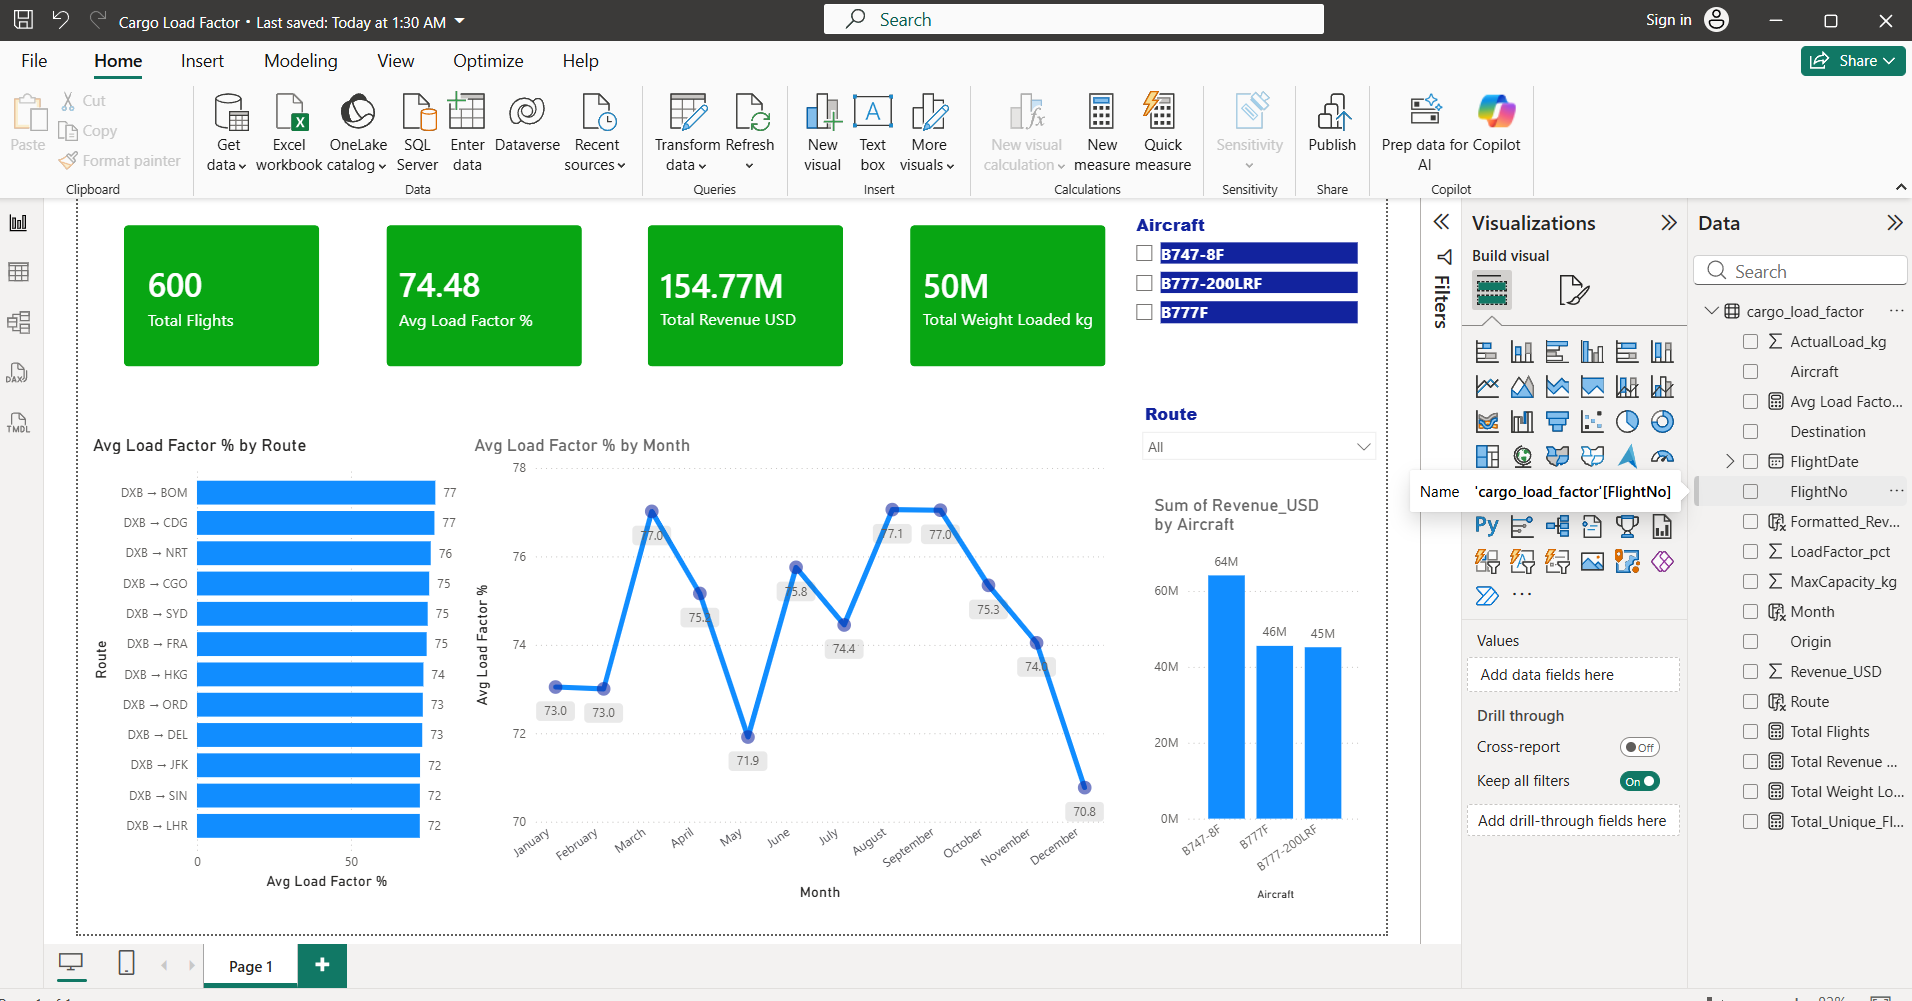

Layout of this report page (visuals, bound fields, positions):
{"tool":"powerbi","page":{"name":"Page 1","canvas":[1280,720],"ordinal":0},"visuals":[{"type":"cardVisual","fields":{"Data":["cargo_load_factor.Total Flights"]},"box":[28.3,9.9,225,172.9],"z":0},{"type":"cardVisual","fields":{"Data":["cargo_load_factor.Avg Load Factor %"]},"box":[284.4,9.9,225,172.9],"z":1000},{"type":"cardVisual","fields":{"Data":["cargo_load_factor.Total Revenue USD"]},"box":[540.6,9.9,225,172.9],"z":2000},{"type":"cardVisual","fields":{"Data":["cargo_load_factor.Total Weight Loaded kg"]},"box":[796.7,9.9,225,172.9],"z":3000},{"type":"clusteredBarChart","fields":{"Category":["cargo_load_factor.Route"],"Y":["cargo_load_factor.Avg Load Factor %"]},"box":[9.8,231.1,373,450],"z":4000},{"type":"lineChart","fields":{"Y":["cargo_load_factor.Avg Load Factor %"],"Category":["cargo_load_factor.FlightDate.Variation.Date Hierarchy.Year","cargo_load_factor.FlightDate.Variation.Date Hierarchy.Quarter","cargo_load_factor.FlightDate.Variation.Date Hierarchy.Month","cargo_load_factor.FlightDate.Variation.Date Hierarchy.Day"]},"box":[382.7,231.1,626.1,461],"z":5000},{"type":"slicer","fields":{"Values":["cargo_load_factor.Aircraft"]},"box":[1022.3,9.8,234.8,126],"z":6000},{"type":"slicer","fields":{"Values":["cargo_load_factor.Route"]},"box":[1030.8,194.4,249.5,68.5],"z":7000},{"type":"clusteredColumnChart","fields":{"Category":["cargo_load_factor.Aircraft"],"Y":["Sum(cargo_load_factor.Revenue_USD)"]},"box":[1048,289.8,214,402.3],"z":8000}]}

Visuals, with their boxes in screenshot pixels (x1, y1, x2, y2):
cardVisual - cargo_load_factor.Total Flights: {"left": 0, "top": 33, "right": 245, "bottom": 262}
cardVisual - cargo_load_factor.Avg Load Factor %: {"left": 286, "top": 33, "right": 584, "bottom": 262}
cardVisual - cargo_load_factor.Total Revenue USD: {"left": 625, "top": 33, "right": 923, "bottom": 262}
cardVisual - cargo_load_factor.Total Weight Loaded kg: {"left": 964, "top": 33, "right": 1261, "bottom": 262}
clusteredBarChart - cargo_load_factor.Route x cargo_load_factor.Avg Load Factor %: {"left": 0, "top": 325, "right": 417, "bottom": 920}
lineChart - cargo_load_factor.Avg Load Factor % x cargo_load_factor.FlightDate.Variation.Date Hierarchy.Year: {"left": 416, "top": 325, "right": 1244, "bottom": 935}
slicer - cargo_load_factor.Aircraft: {"left": 1262, "top": 33, "right": 1573, "bottom": 199}
slicer - cargo_load_factor.Route: {"left": 1273, "top": 277, "right": 1603, "bottom": 368}
clusteredColumnChart - cargo_load_factor.Aircraft x Sum(cargo_load_factor.Revenue_USD): {"left": 1296, "top": 403, "right": 1579, "bottom": 935}
